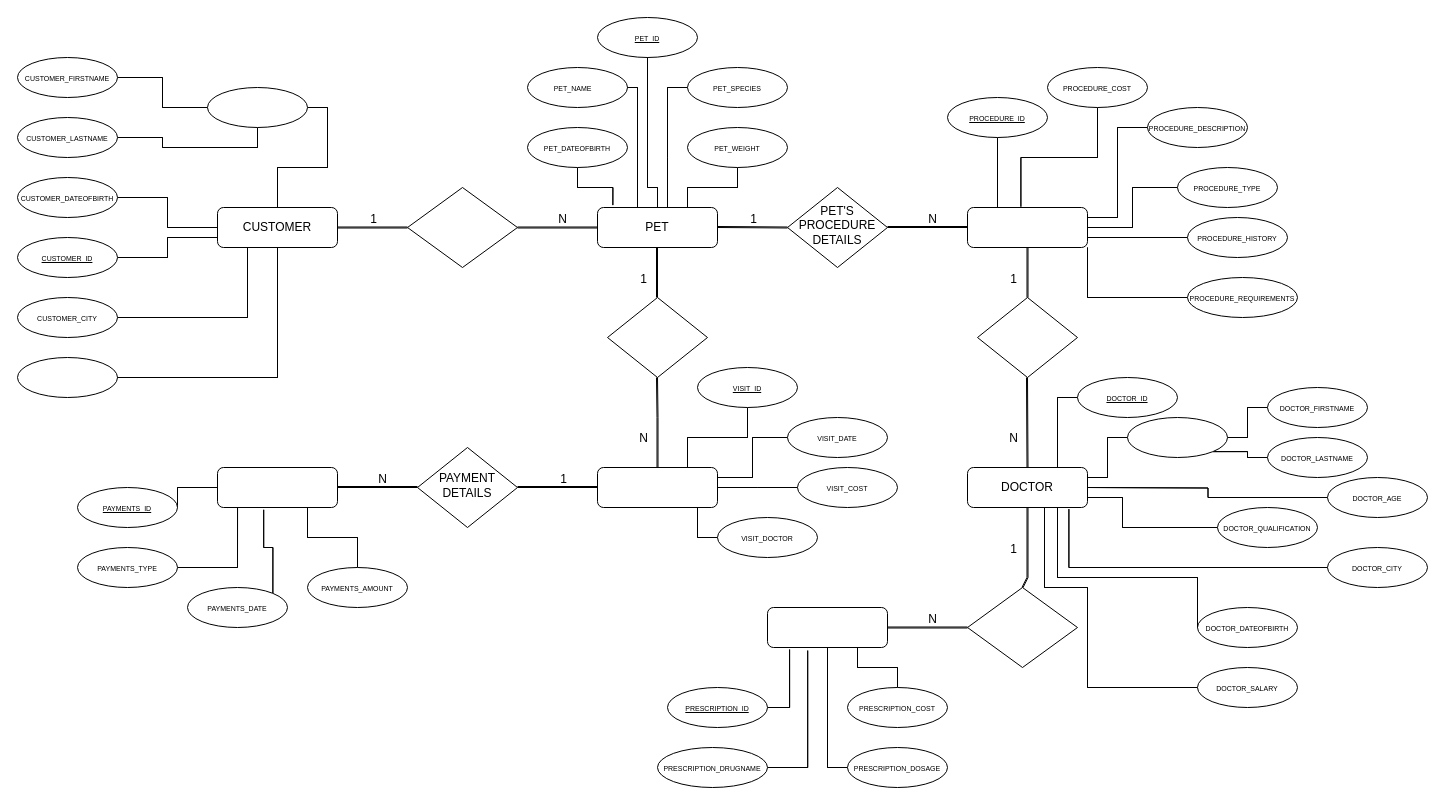
Image size: 1445x805. Some labels were removed from this diagram. The shapes that lost their labels are listed below. From the top down, each one's box as (x1, y1, x2, y2) in pixels, then its label:
(206, 86, 308, 128): CUSTOMER_NAME
(406, 186, 518, 268): CUSTOMER'S PETS
(966, 206, 1088, 248): PROCEDURE
(606, 296, 708, 378): VISIT DETAILS
(976, 296, 1078, 378): DOCTOR DETAILS
(16, 356, 118, 398): CUSTOMER_EMAILID
(1126, 416, 1228, 458): DOCTOR_NAME
(216, 466, 338, 508): PAYMENTS
(596, 466, 718, 508): PET_VISIT
(766, 606, 888, 648): PRESCRIPTION
(966, 586, 1078, 668): DOCTOR'S PRESCRIPTION
